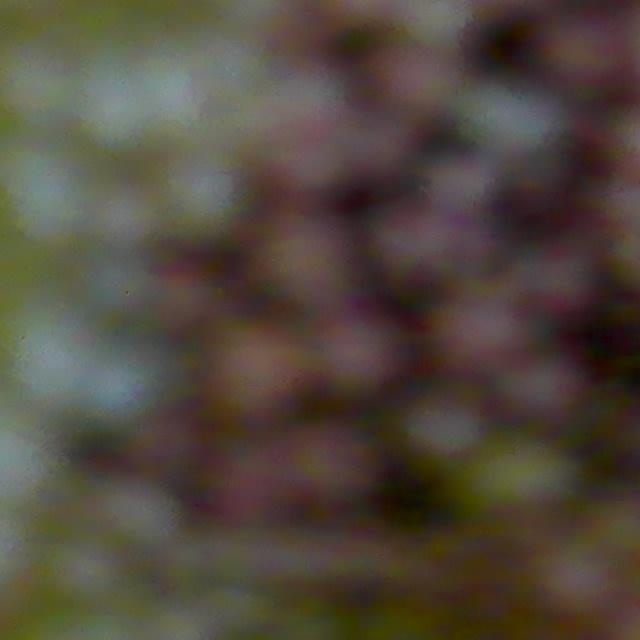SeaGrape: (250, 225, 352, 322), (427, 288, 540, 374), (0, 143, 90, 243), (162, 157, 250, 244), (496, 350, 587, 433), (323, 314, 406, 396), (534, 540, 615, 620), (213, 325, 297, 400), (102, 478, 182, 553), (404, 392, 483, 463), (547, 17, 618, 88), (380, 55, 454, 117)
